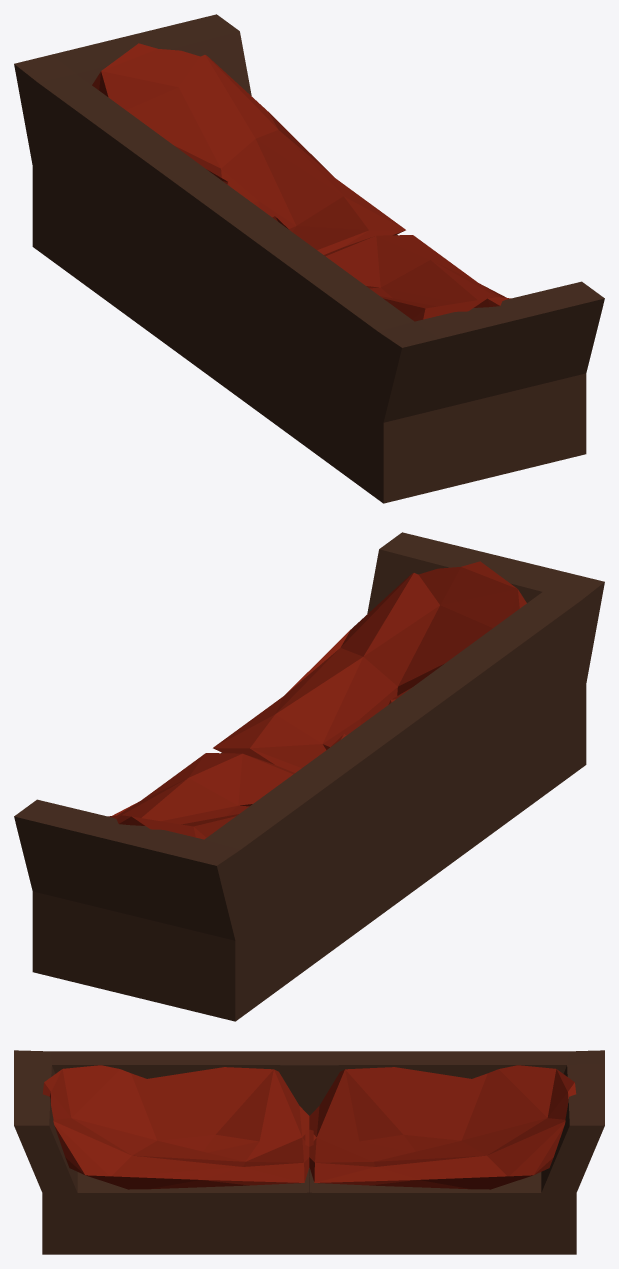
File: couch.fbx
The picture shows the model from 3 angles, top to bottom: view 1: azimuth 30°, elevation 25°; view 2: azimuth 150°, elevation 25°; view 3: azimuth 270°, elevation 25°; orthographic projection. The views are drawn at different scales.
Parts seen in each view (by area): view 1: Cylinder; view 2: Cylinder; view 3: Cylinder.
Boxes of the visible parts, x1,y1,x2,y2 form: Cylinder: (14, 14, 604, 503); Cylinder: (14, 532, 604, 1021); Cylinder: (14, 1050, 604, 1254).
Bounding box in the file's own units: 453 × 374 × 1474.
